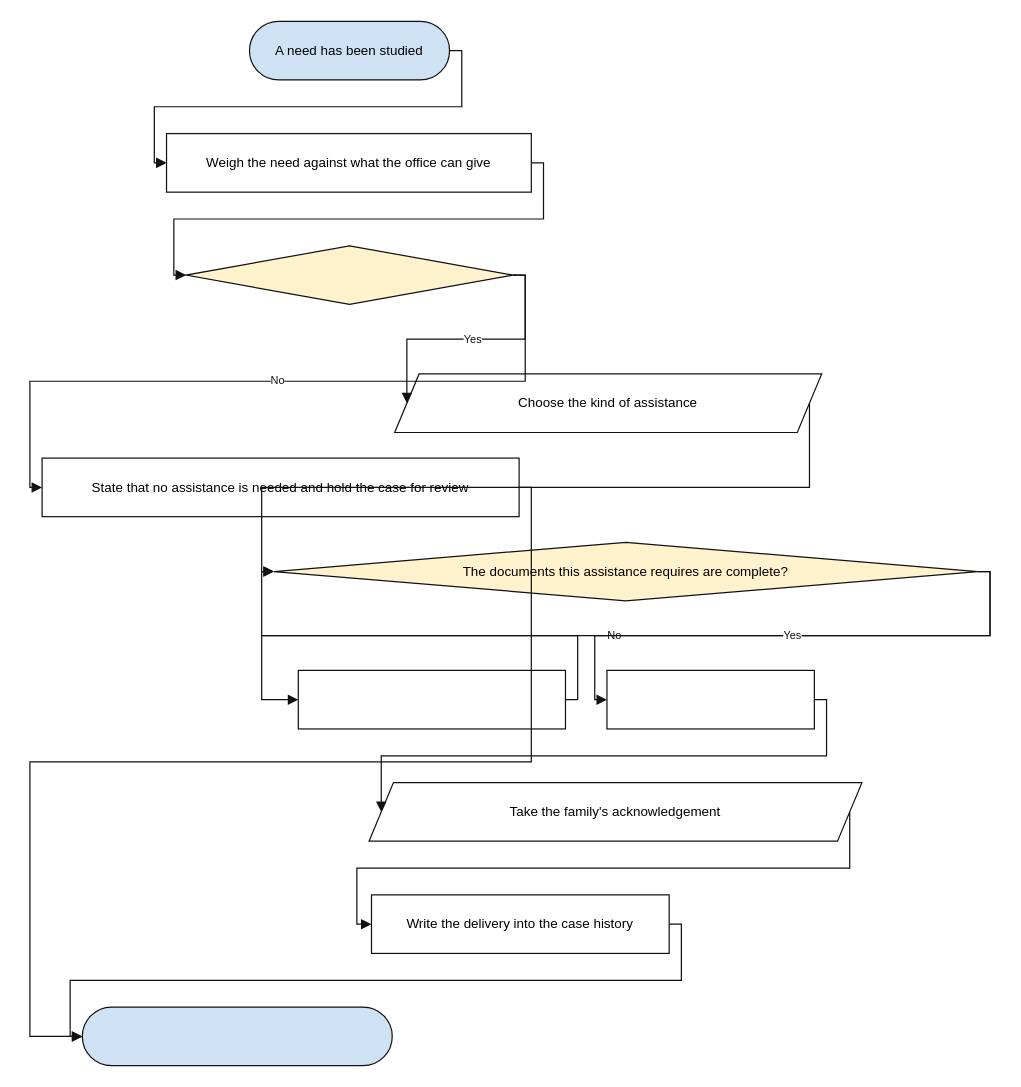
Image size: 1021x1087. Some labels were removed from this diagram. The box of each missing label's shape, as (x1, y1, x2, y2) in pixels:
Ask the family for what is missing: (297, 669, 565, 729)
Assistance delivered and acknowledged: (81, 1006, 392, 1066)
Assistance is required?: (185, 245, 513, 304)
Hand over the assistance: (606, 669, 814, 729)
